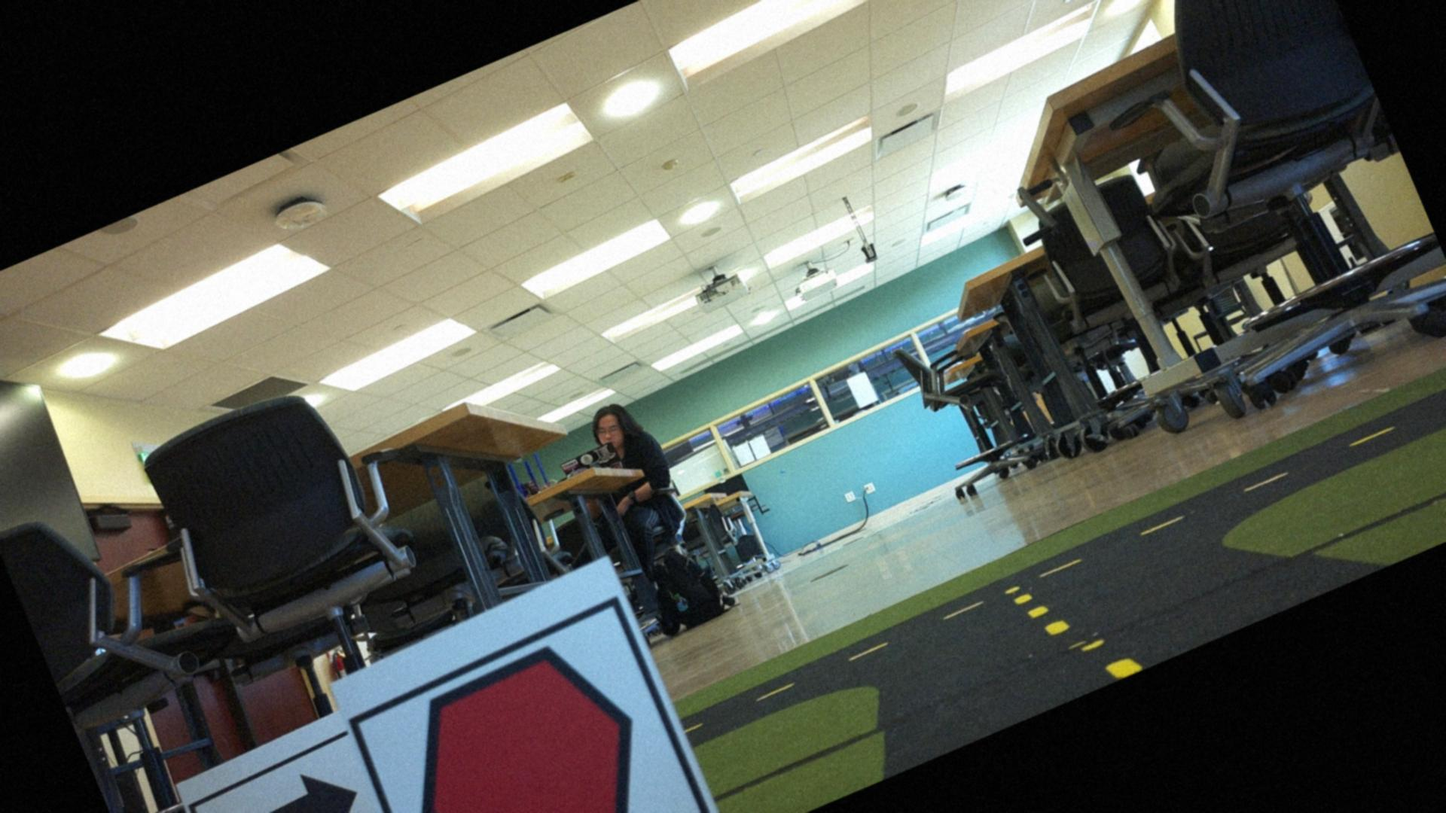stop: (365, 612, 692, 812)
turnright: (194, 744, 395, 812)
yellowline: (1017, 561, 1145, 704)
